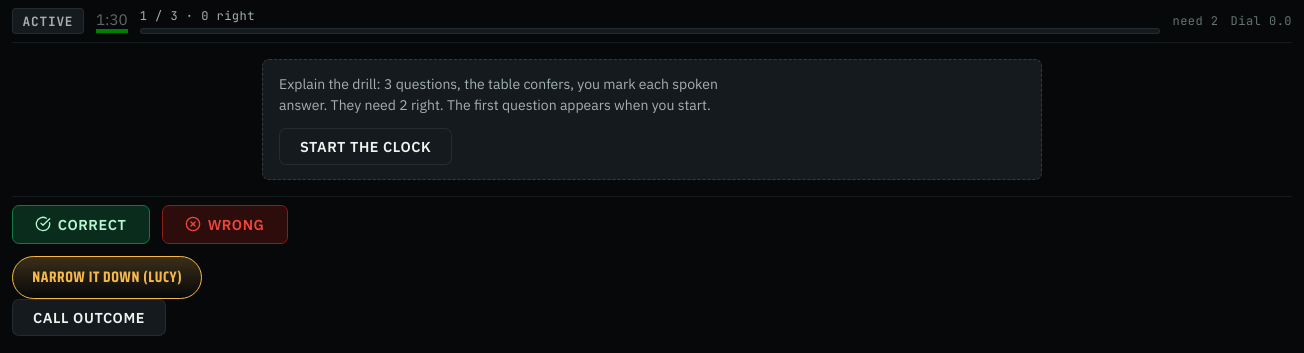
Test: InsideKnowledgeComponent — Narrow It Down › 4-option grid shown after Narrow It Down boost
Click the button with test id "mg-start-clock": (366, 146) [279,128,452,165]
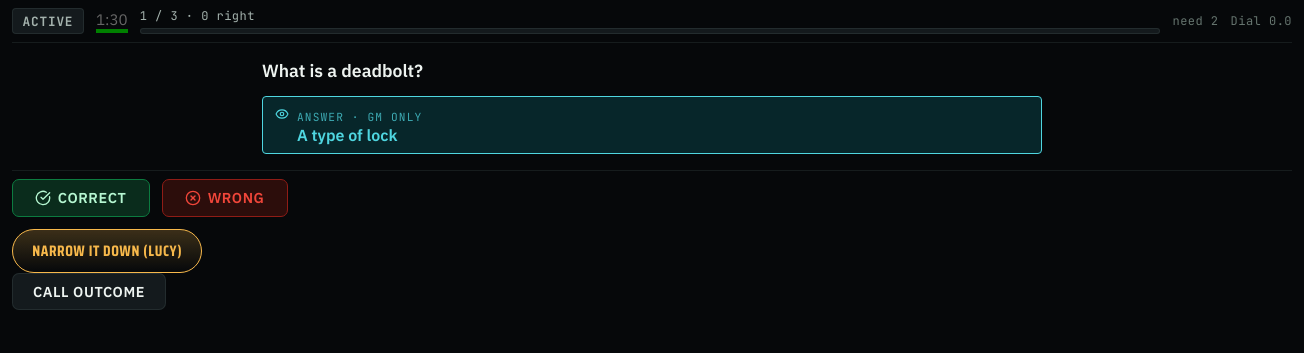
Click the button with test id "boost-charm": (107, 251) [12,229,202,273]
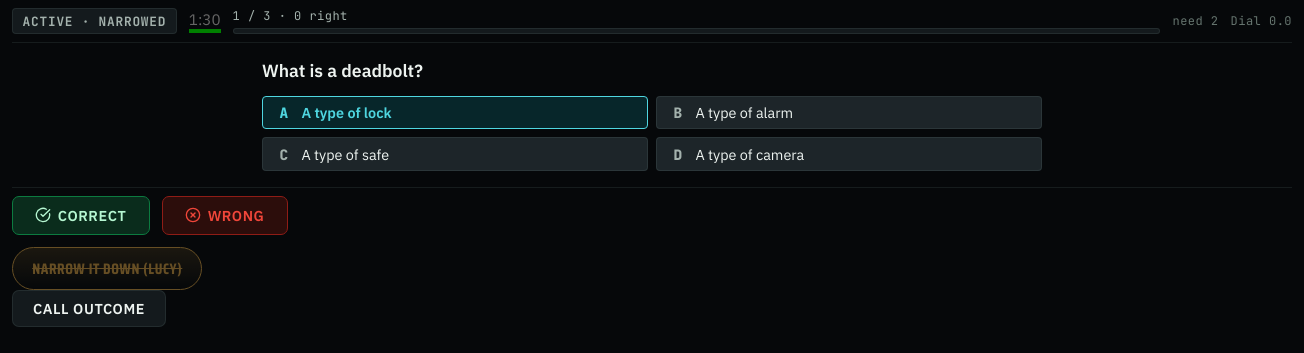
expect the element with test id "ik-options" is shown: met, box [262,96,1042,171]
